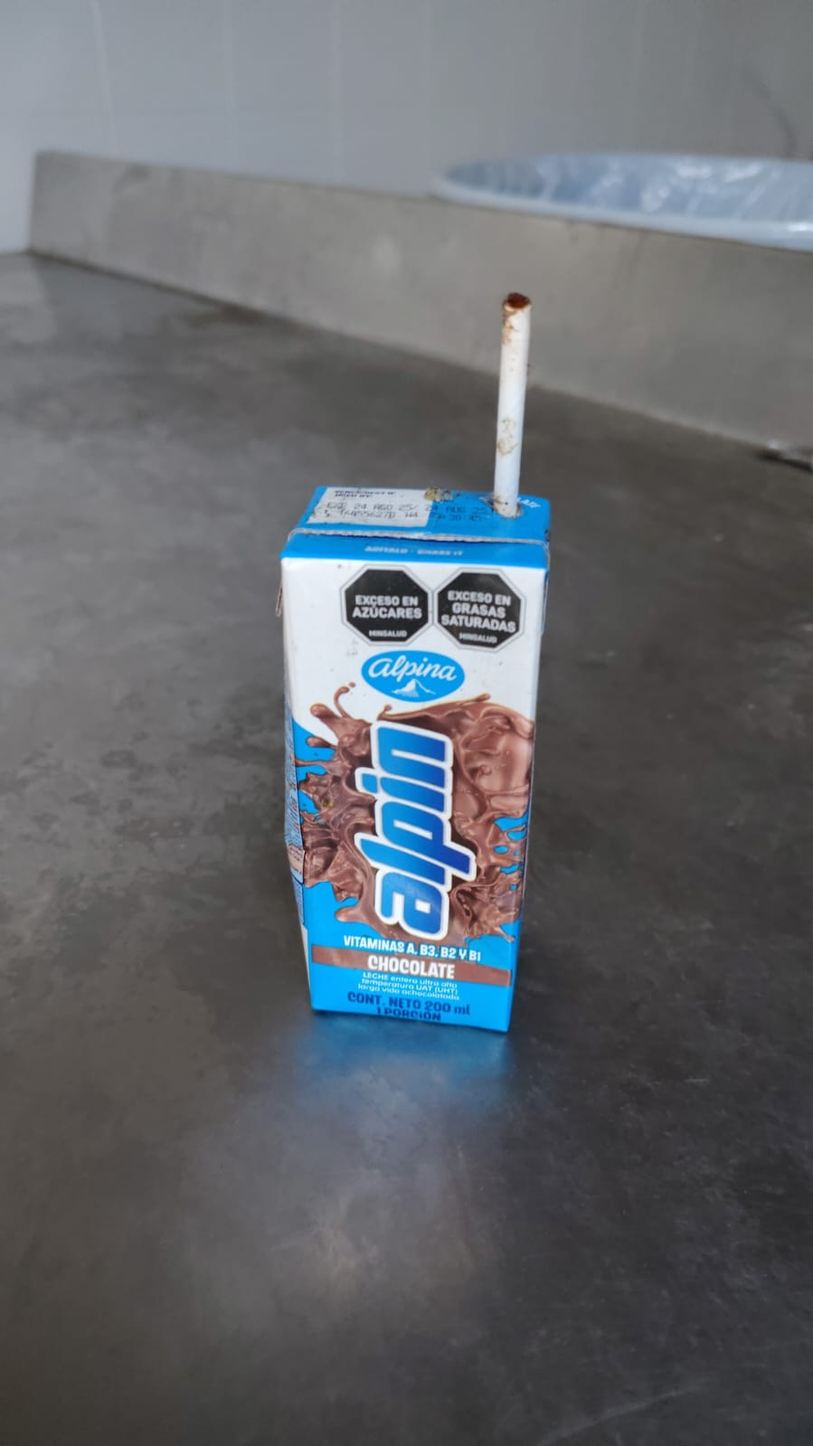Carton: (276, 492, 553, 1037)
